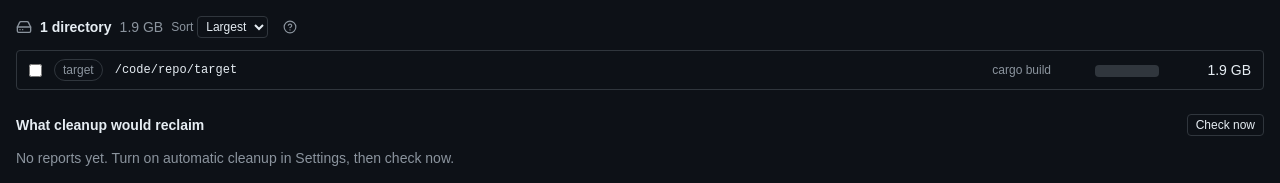
Test case: ArtifactsPage removal › names the count and the size before the dialog
This screenshot has width=1280, height=183.
Click the checkbox named "Select /code/repo/target". click: (36, 70)
box: [29,64,42,76]
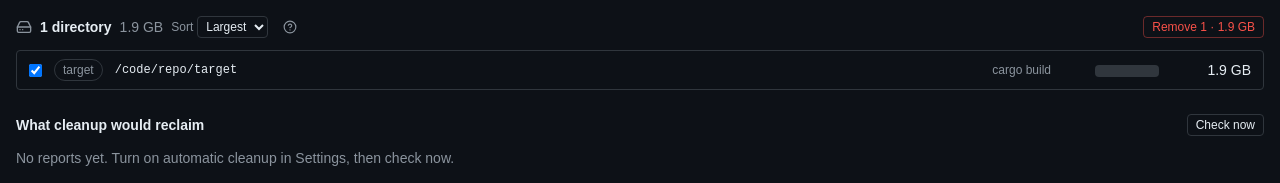
Now the button "Remove 1 · 1.9 GB" is shown, box [1143,16,1264,38]
